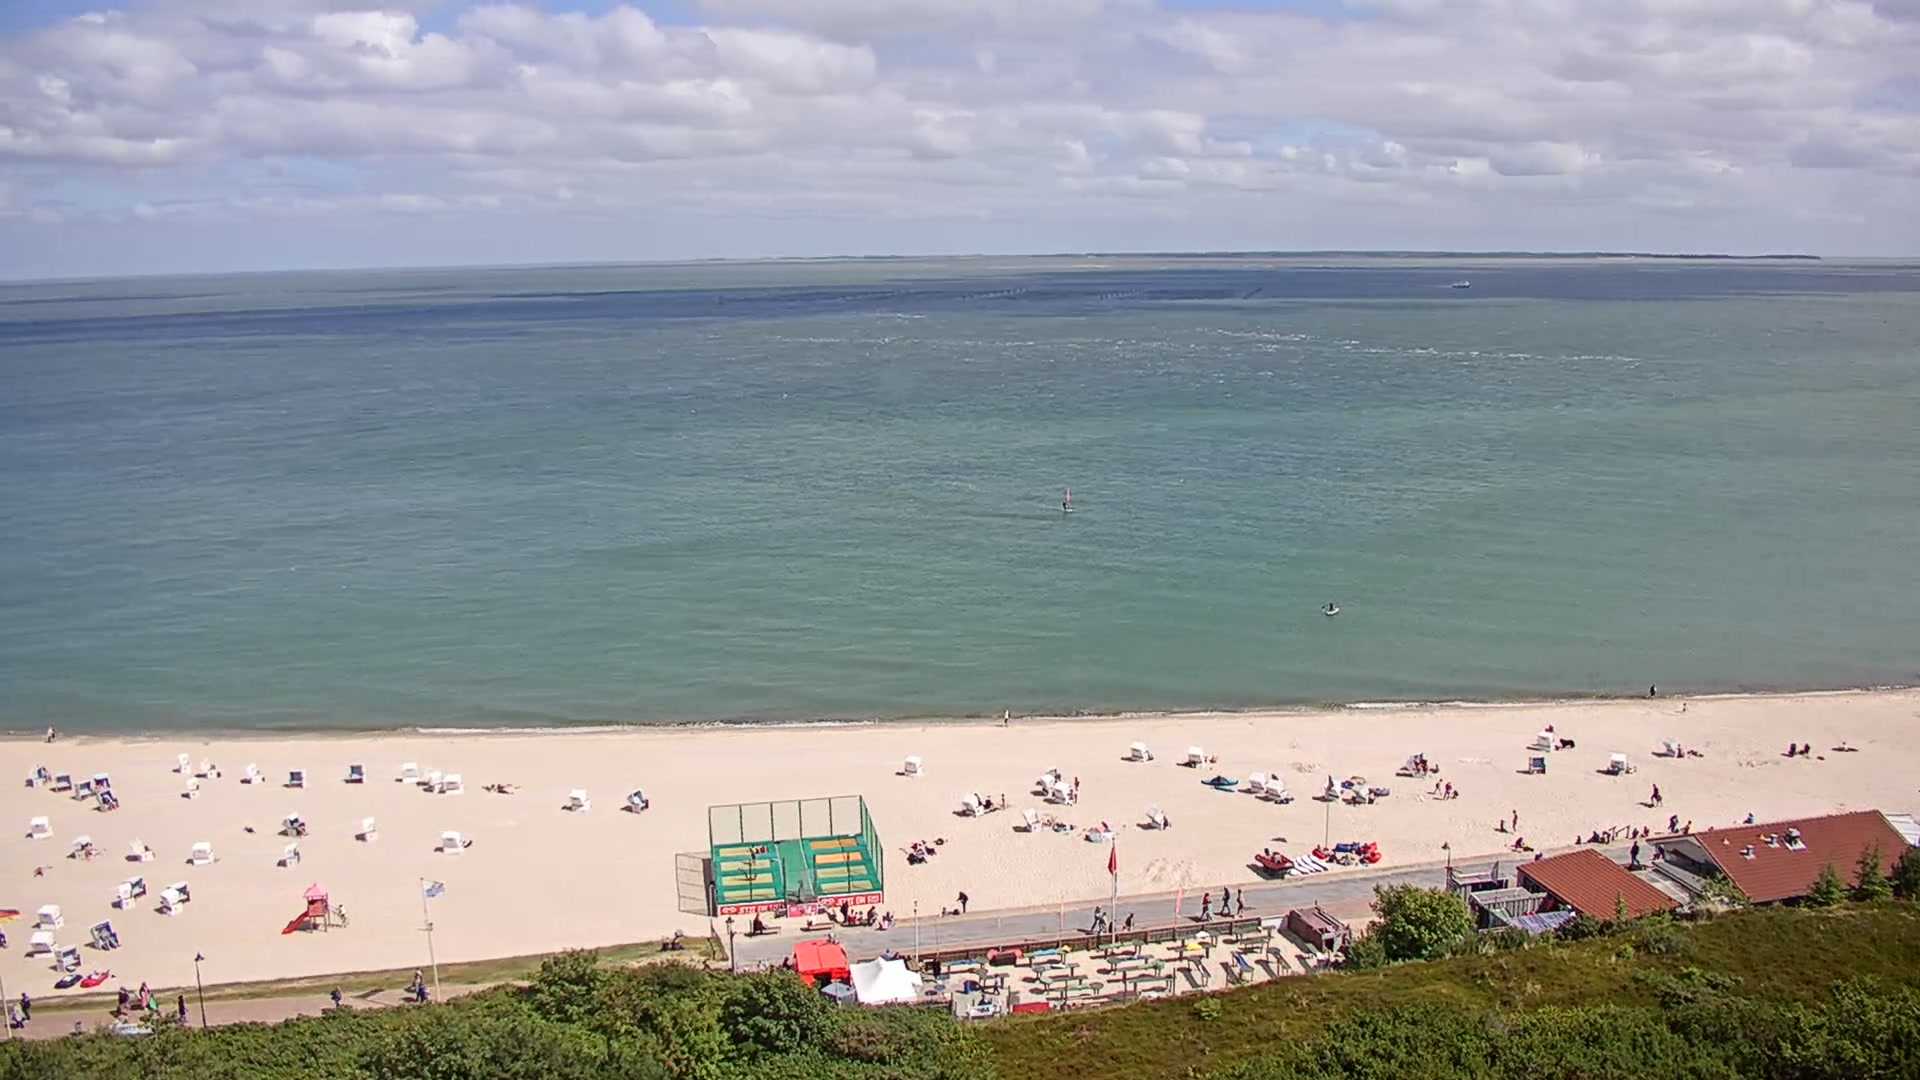human: (112, 985, 129, 1016), (8, 1001, 26, 1028), (97, 926, 119, 950), (1197, 891, 1213, 921), (1218, 885, 1232, 915), (1089, 904, 1102, 932), (176, 993, 189, 1021), (138, 979, 150, 1009), (20, 991, 32, 1020), (289, 818, 307, 836), (101, 790, 117, 811), (1629, 839, 1640, 866), (954, 889, 967, 911), (976, 991, 990, 1012), (752, 912, 765, 934), (1235, 887, 1245, 916), (1649, 782, 1659, 806), (330, 986, 341, 1007), (414, 974, 423, 1001), (867, 904, 878, 924), (1124, 911, 1135, 931), (1667, 812, 1679, 832), (1324, 773, 1335, 792), (840, 898, 849, 920), (749, 843, 758, 865), (992, 972, 1001, 994), (1652, 843, 1664, 860), (1098, 910, 1107, 933), (1510, 807, 1518, 831), (1831, 740, 1847, 752), (419, 984, 429, 1003), (1586, 829, 1599, 843), (983, 794, 994, 809), (885, 910, 894, 928), (1433, 777, 1443, 795), (1206, 899, 1214, 921), (973, 791, 984, 807), (1680, 818, 1691, 834), (847, 907, 856, 924), (1514, 835, 1524, 849), (1444, 779, 1452, 798), (73, 1019, 82, 1035), (414, 966, 423, 983), (1742, 811, 1753, 824), (46, 725, 54, 742), (1074, 775, 1081, 791), (1650, 683, 1657, 699), (1003, 708, 1010, 727), (882, 913, 889, 930), (1429, 762, 1439, 774), (337, 902, 346, 915), (857, 909, 864, 924), (999, 792, 1006, 809), (1108, 920, 1115, 933), (1657, 792, 1664, 807), (1631, 826, 1639, 837), (1641, 824, 1649, 836), (52, 726, 57, 742), (1451, 789, 1459, 799), (1574, 834, 1581, 844), (1073, 792, 1079, 804), (1682, 701, 1687, 712)
sea: (1254, 844, 1295, 878), (1062, 487, 1075, 513), (1321, 600, 1340, 615), (1452, 280, 1471, 288)
